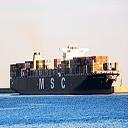Ships: (9, 52, 119, 98)
